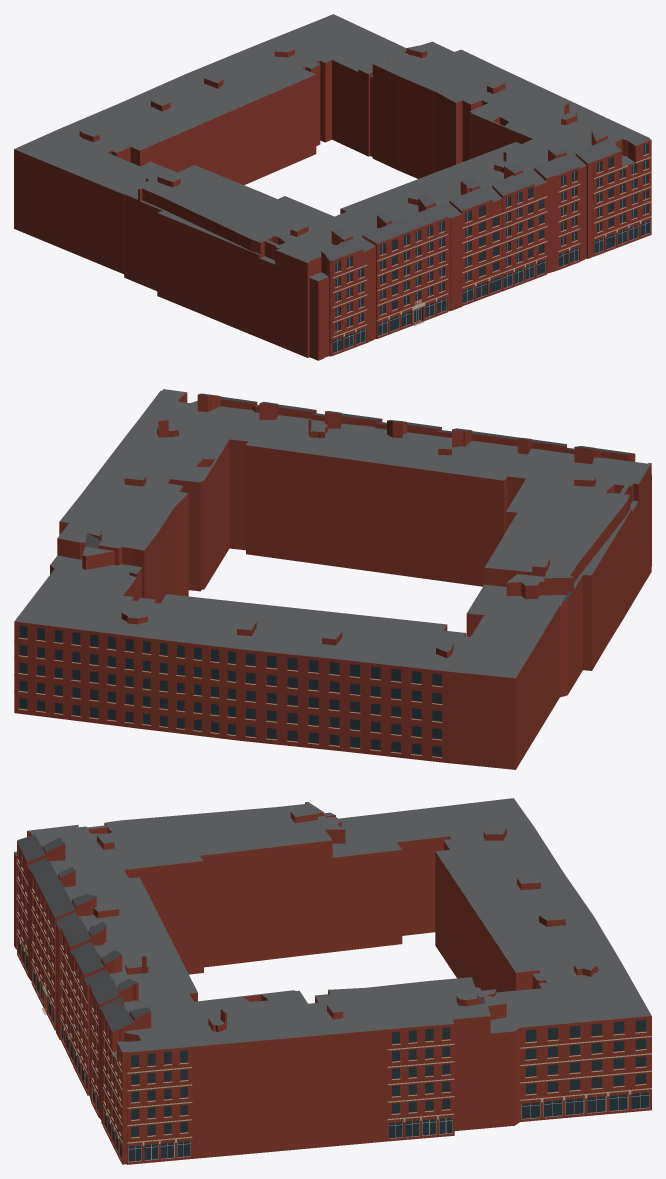
Rendered from recipe-large-oba-olympisch-kwartier.glb.
3 views of the same model, one above another, from view 1: azimuth 30°, elevation 25°; view 2: azimuth 150°, elevation 25°; view 3: azimuth 270°, elevation 25° (orthographic). The views are drawn at different scales.
Parts seen in each view (by area): view 1: oba-olympisch-kwartier; view 2: oba-olympisch-kwartier; view 3: oba-olympisch-kwartier.
Part boxes in pixels (x1,y1,x2,y2): oba-olympisch-kwartier: (14, 14, 651, 360); oba-olympisch-kwartier: (14, 389, 651, 769); oba-olympisch-kwartier: (14, 798, 651, 1164).
Bounding box in the file's own units: 99.21 × 22 × 98.05.
